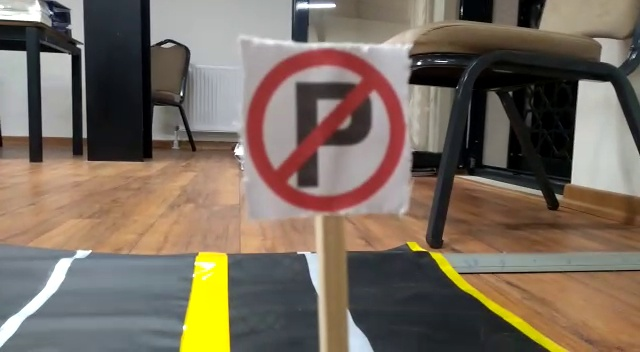park_yapilmaz: (240, 40, 409, 214)
